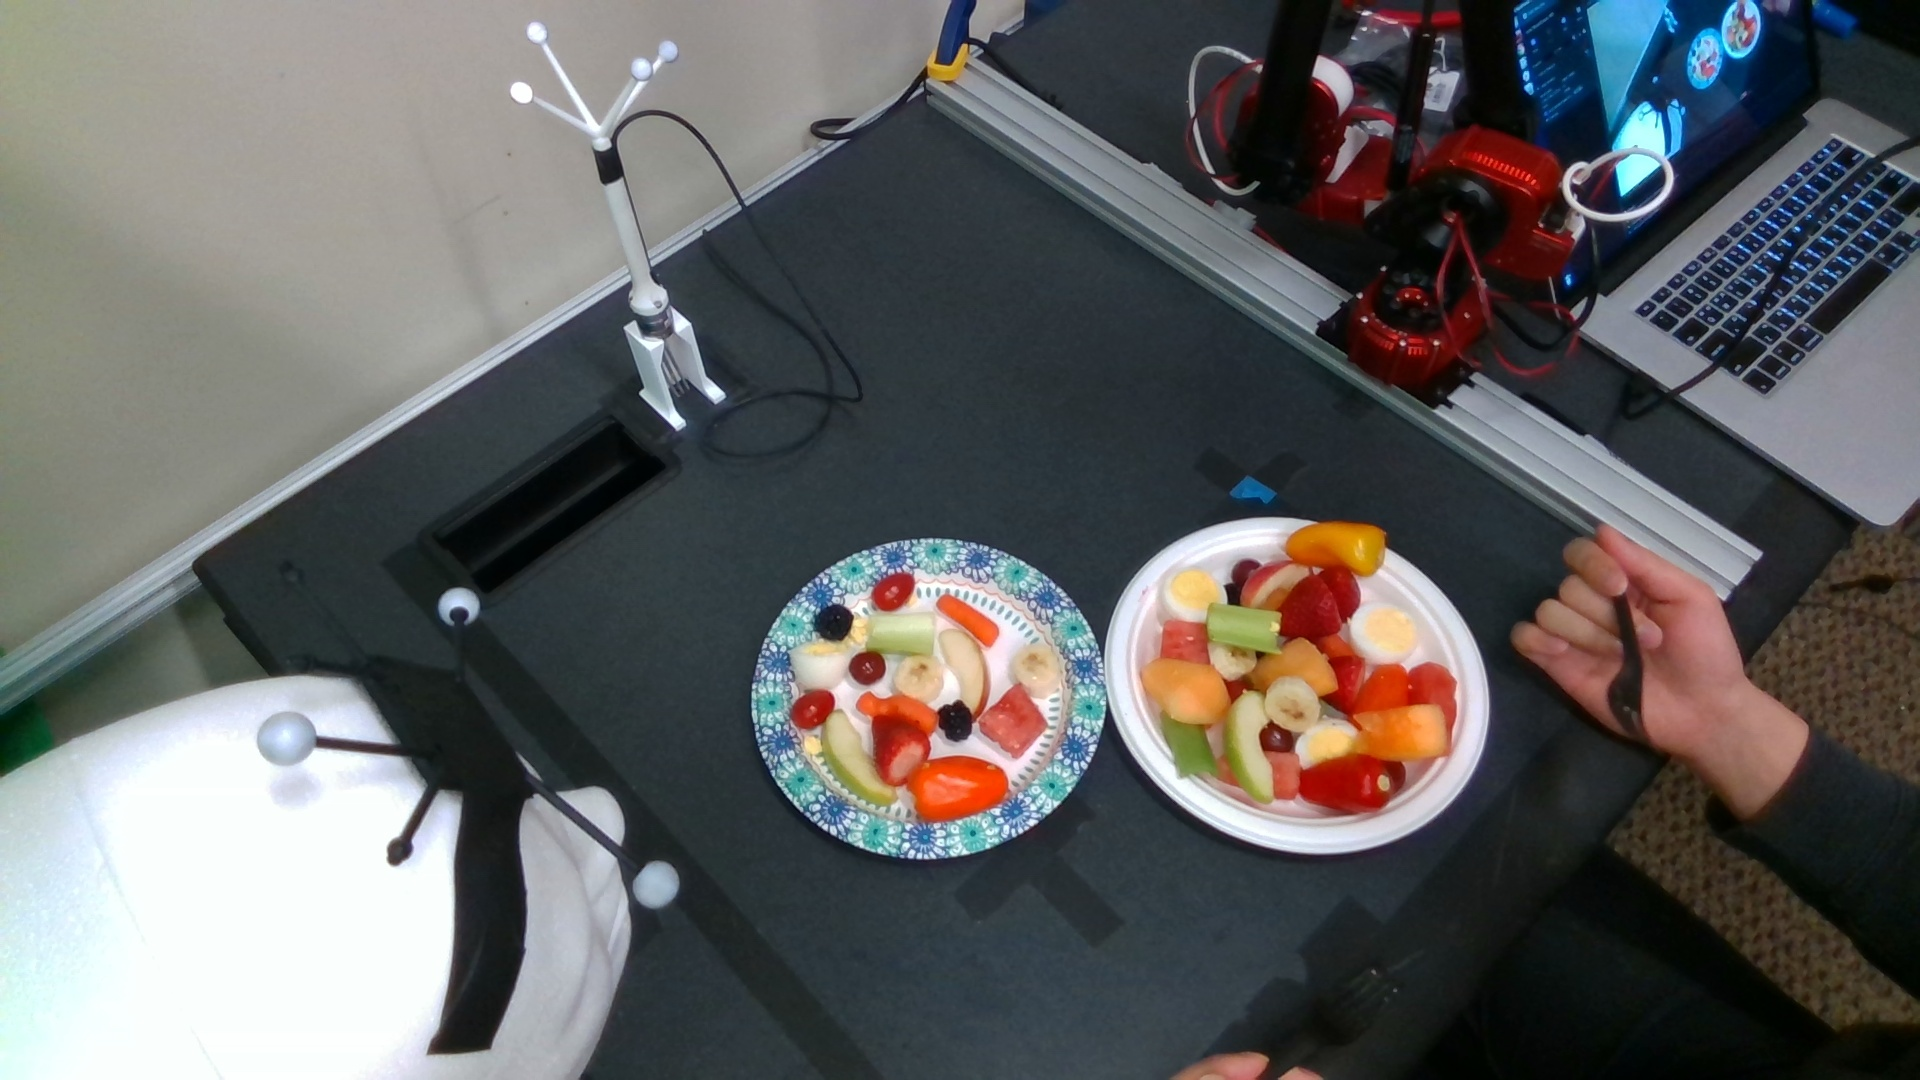apple: (820, 708, 897, 804), (1225, 688, 1273, 804), (939, 629, 990, 723), (1240, 560, 1311, 608)
banana: (1265, 676, 1320, 732), (1013, 646, 1060, 698), (895, 655, 944, 702)
bell pepper: (909, 757, 1009, 822), (1284, 521, 1385, 578), (1300, 756, 1394, 814)
blackberry: (938, 700, 973, 741), (816, 604, 852, 642)
cantalope: (1139, 658, 1230, 723), (1353, 704, 1447, 761), (1250, 638, 1338, 695)
carrot: (856, 692, 938, 735), (938, 595, 1000, 646)
celery: (1160, 712, 1220, 779), (1207, 603, 1280, 655), (866, 613, 934, 657)
cherry tomato: (793, 688, 835, 731), (870, 574, 915, 612)
egg: (1349, 603, 1418, 665), (1163, 567, 1226, 624)
grape: (851, 651, 886, 684), (1233, 559, 1261, 583)
melon: (978, 684, 1048, 758), (1408, 663, 1456, 731), (1160, 621, 1209, 667)
plate: (1105, 516, 1490, 856), (750, 538, 1106, 861)
strawberry: (1275, 575, 1342, 640), (872, 715, 931, 787), (1320, 566, 1362, 620), (1323, 658, 1364, 712)
